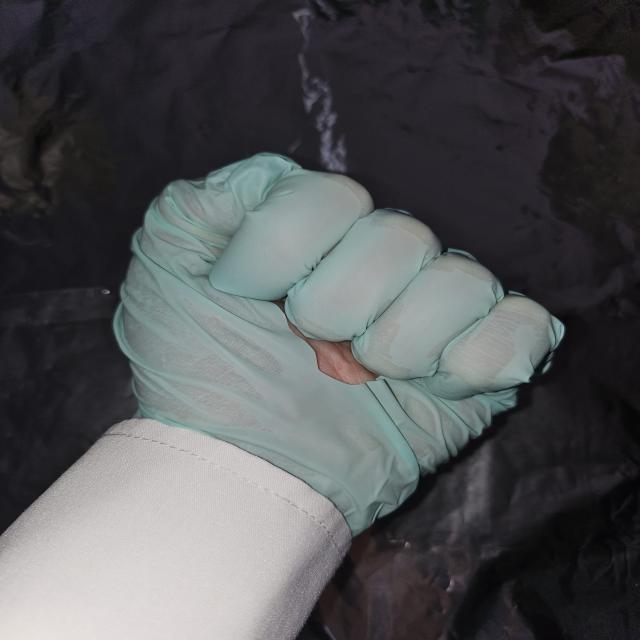gloves_damaged: (111, 150, 568, 537)
